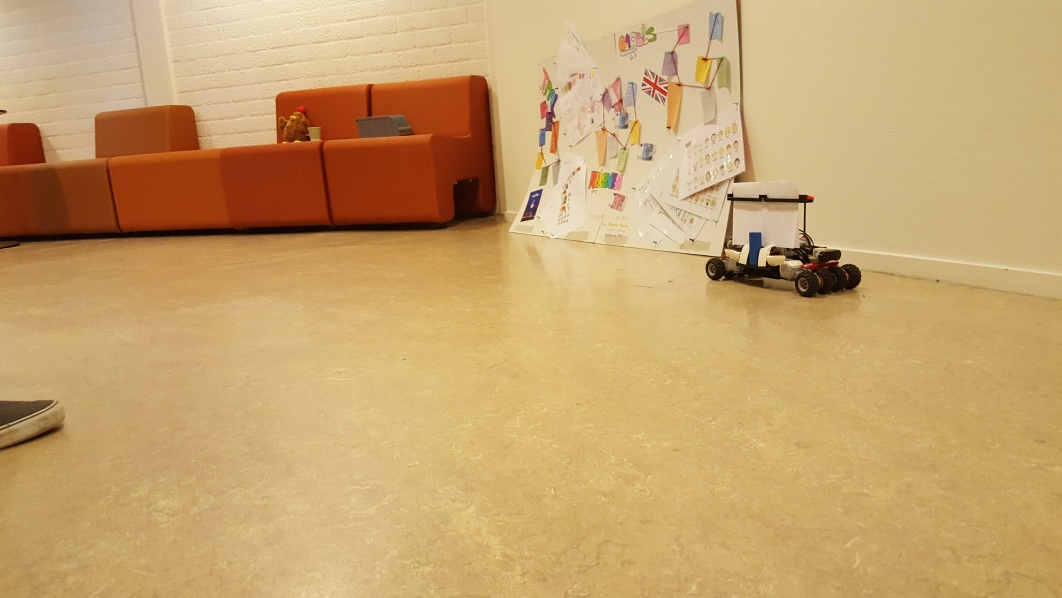beam: (745, 228, 762, 272)
chicken: (275, 105, 307, 144)
cup: (307, 124, 324, 142)
tray: (353, 112, 412, 138)
